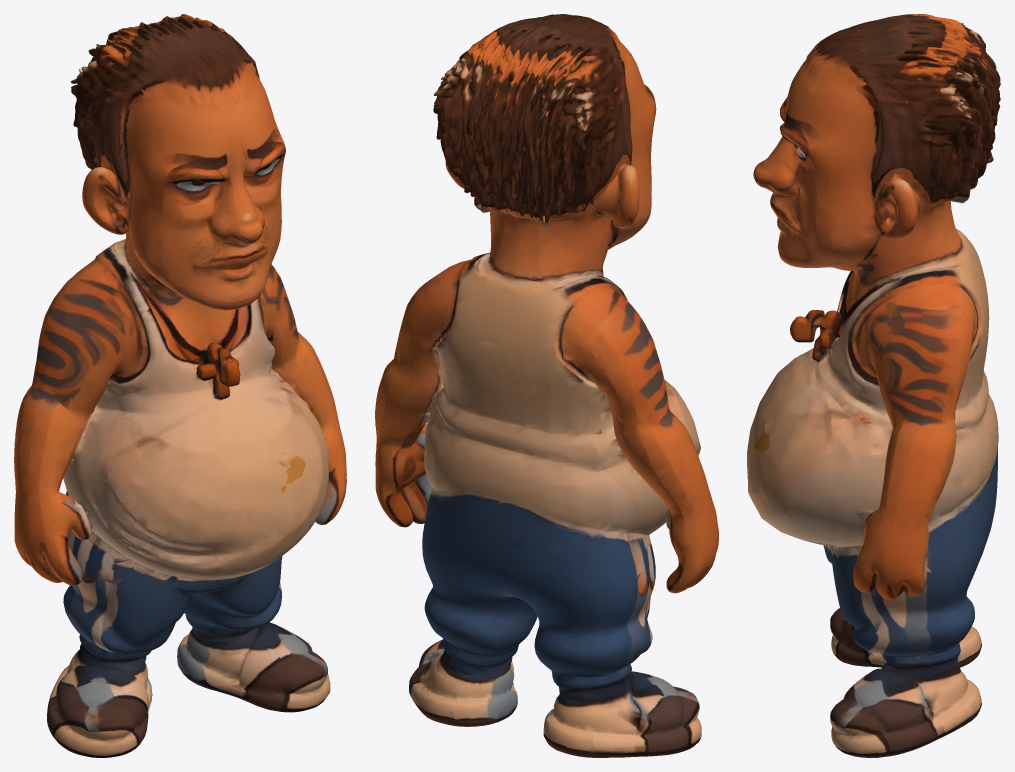
Rendered from neighbor_clean.glb.
3 renders of one model, left to right at view 1: azimuth 30°, elevation 25°; view 2: azimuth 150°, elevation 25°; view 3: azimuth 270°, elevation 25°, orthographic. The views are drawn at different scales.
Parts seen in each view (by area): view 1: tripo_node_5cf6b12f-76fe-4014-b249-53d323323cd5; view 2: tripo_node_5cf6b12f-76fe-4014-b249-53d323323cd5; view 3: tripo_node_5cf6b12f-76fe-4014-b249-53d323323cd5.
Part boxes in pixels (left/top/right/bottom): tripo_node_5cf6b12f-76fe-4014-b249-53d323323cd5: left=14, top=14, right=346, bottom=757; tripo_node_5cf6b12f-76fe-4014-b249-53d323323cd5: left=375, top=14, right=718, bottom=757; tripo_node_5cf6b12f-76fe-4014-b249-53d323323cd5: left=747, top=14, right=1000, bottom=757.
Size of the model in its own units: 0.8599 by 1.75 by 0.5968.
1 material, 1 textured.
